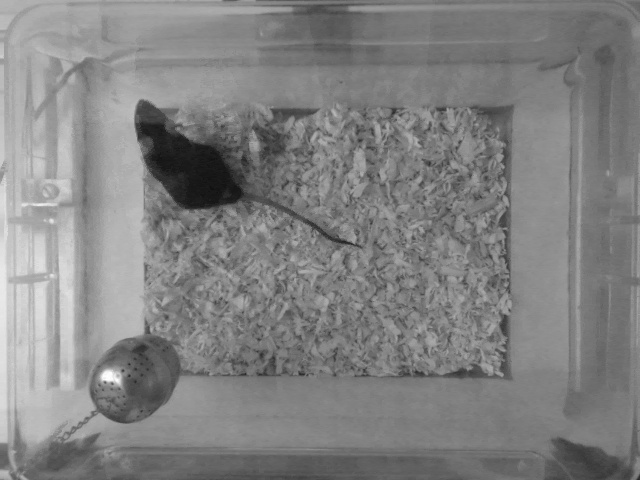mice: (134, 98, 371, 253)
